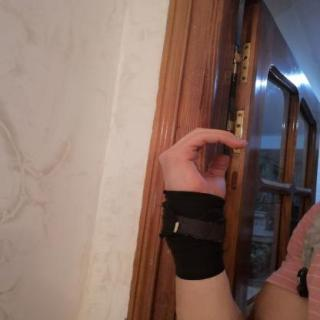JEEM: (147, 119, 260, 216)
